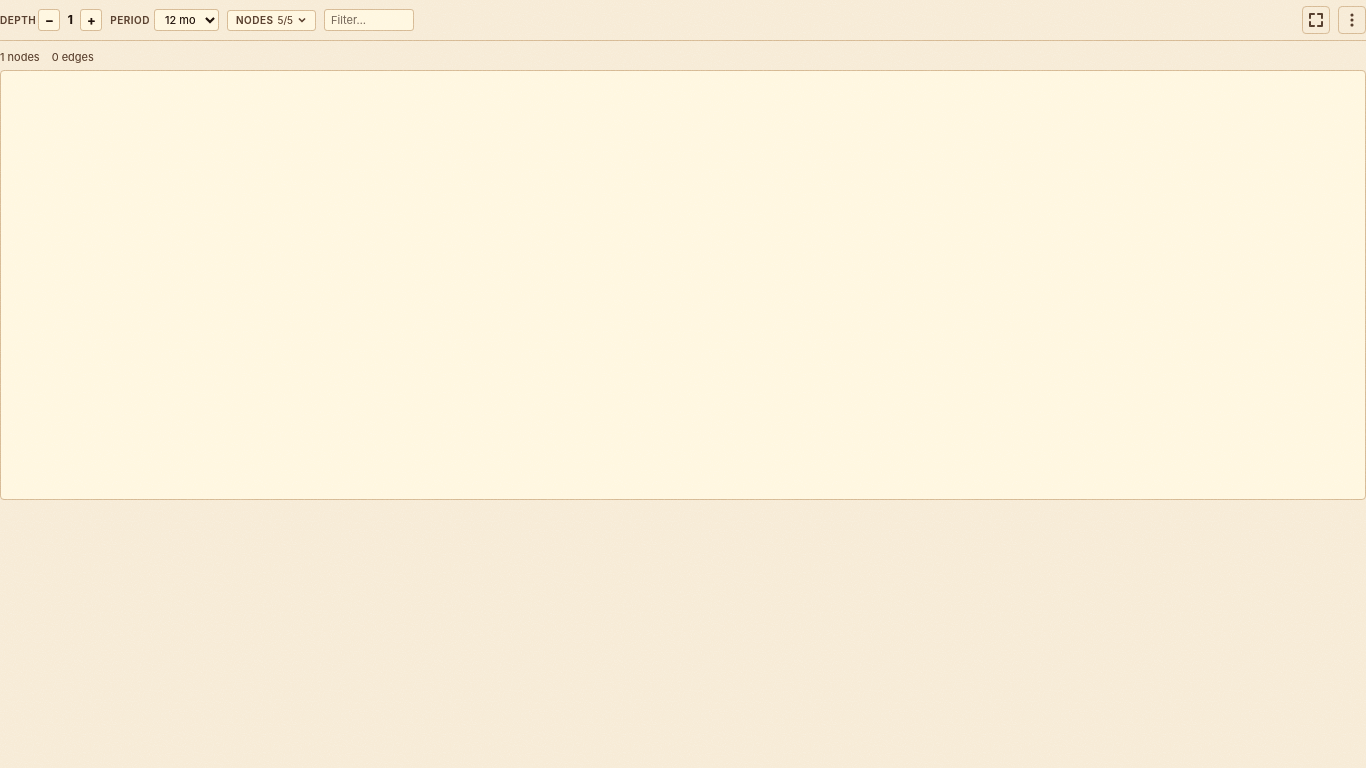
Scenario: GraphExplorer — fullscreen mode › fullscreen button is hidden and X close button is shown in fullscreen
Click the button with test id "ge-fullscreen-btn" at (1316, 20), box [1302, 6, 1330, 34]
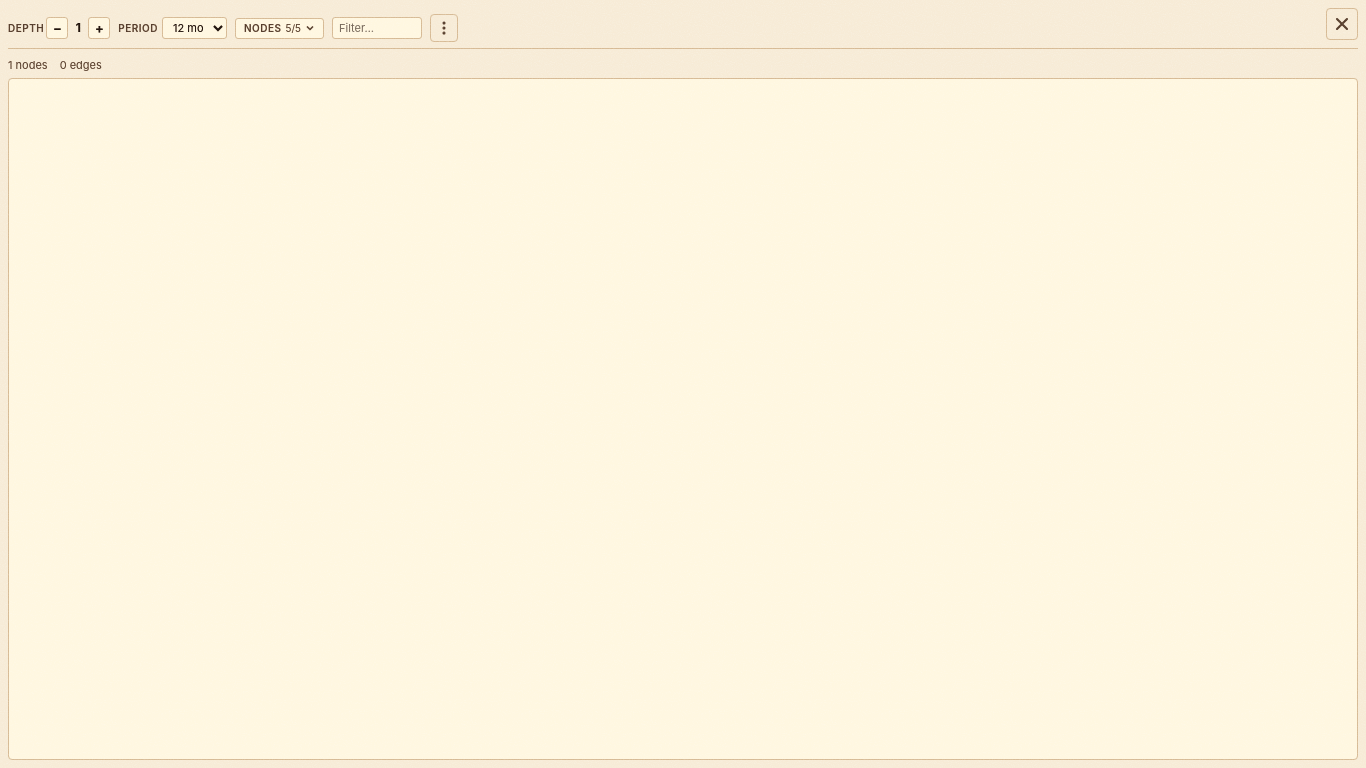
Expected: the button with test id "ge-fs-close" is shown, [1326, 8, 1358, 40]
